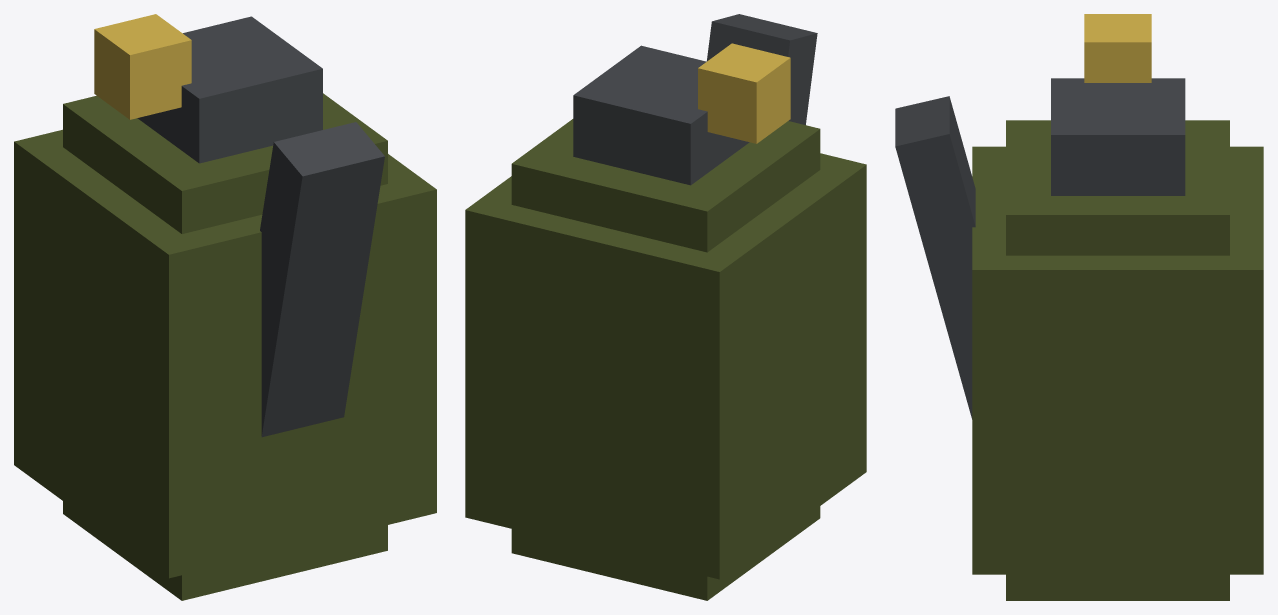
The model's file is gun-he.glb.
The picture shows the model from 3 angles, left to right: view 1: azimuth 30°, elevation 25°; view 2: azimuth 150°, elevation 25°; view 3: azimuth 270°, elevation 25°; orthographic projection. The views are drawn at different scales.
Parts seen in each view (by area): view 1: he; view 2: he; view 3: he.
Boxes of the visible parts, x1=… form: he: x1=14, y1=14, x2=436, y2=600; he: x1=465, y1=14, x2=866, y2=600; he: x1=895, y1=14, x2=1263, y2=600.
Size of the model in its own units: 0.13 by 0.24 by 0.1644.
